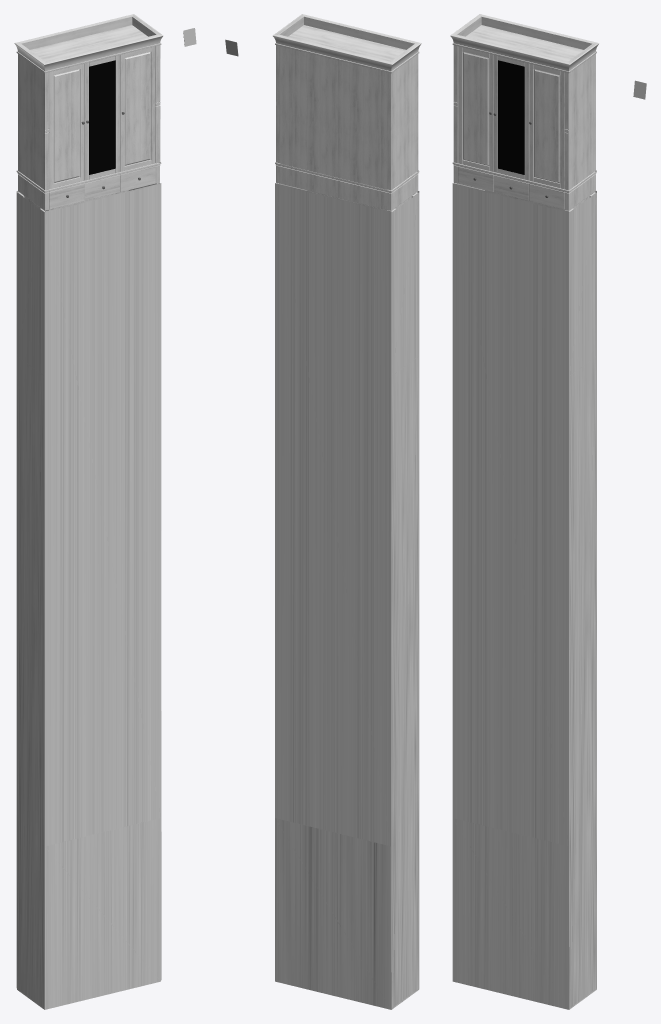
Rendered from dolapamauzuyo.fbx.
The picture shows the model from 3 angles, left to right: view 1: azimuth 30°, elevation 25°; view 2: azimuth 150°, elevation 25°; view 3: azimuth 330°, elevation 25°; orthographic projection.
Visible parts, largest first — view 1: dolap sabit, dolap kapak 1, dolap 2, dolap aynalı kapak, çekmece 3, çekmece 1, çekmece 2; view 2: dolap sabit; view 3: dolap sabit, dolap aynalı kapak, dolap kapak 1, dolap 2, çekmece 1, çekmece 3, çekmece 2.
Boxes of the visible parts, left/top/right/bottom form: dolap sabit: left=14, top=14, right=163, bottom=1009; dolap kapak 1: left=49, top=63, right=84, bottom=189; dolap 2: left=120, top=46, right=155, bottom=171; dolap aynalı kapak: left=84, top=55, right=119, bottom=180; çekmece 3: left=49, top=182, right=84, bottom=209; çekmece 1: left=120, top=165, right=155, bottom=192; çekmece 2: left=84, top=174, right=119, bottom=200; dolap sabit: left=273, top=14, right=421, bottom=1009; dolap sabit: left=450, top=14, right=599, bottom=1009; dolap aynalı kapak: left=493, top=55, right=529, bottom=180; dolap kapak 1: left=458, top=46, right=493, bottom=171; dolap 2: left=529, top=63, right=564, bottom=189; çekmece 1: left=529, top=182, right=564, bottom=209; çekmece 3: left=458, top=165, right=493, bottom=192; çekmece 2: left=493, top=174, right=528, bottom=200.
Bounding box in the file's own units: 241 × 1256 × 71.03.
